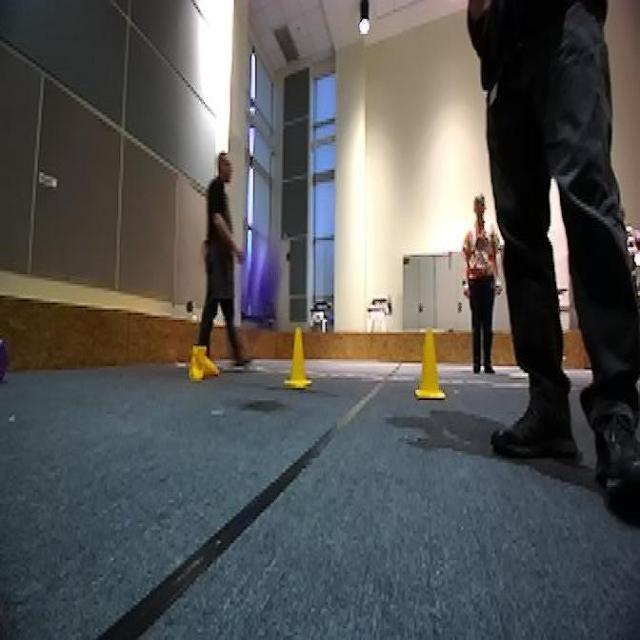frc_cone: (408, 328, 454, 398), (282, 328, 314, 386), (190, 351, 215, 381)
frc_cube: (237, 233, 288, 327), (0, 337, 10, 383)
